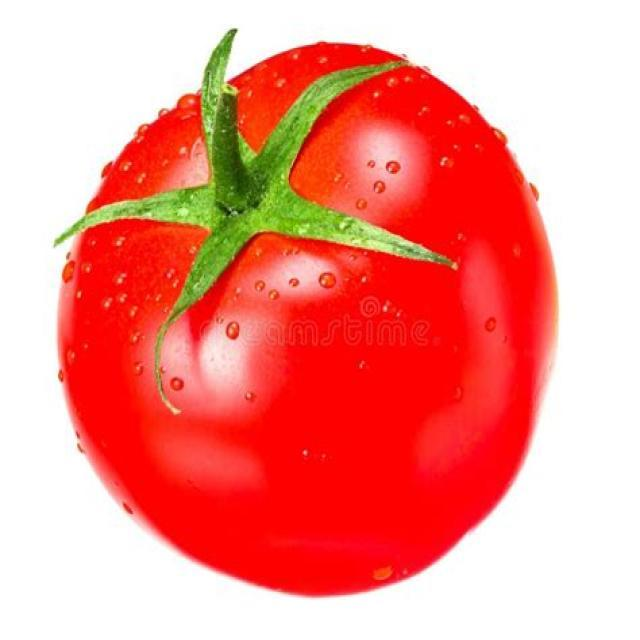Tomato: (53, 30, 560, 601)
